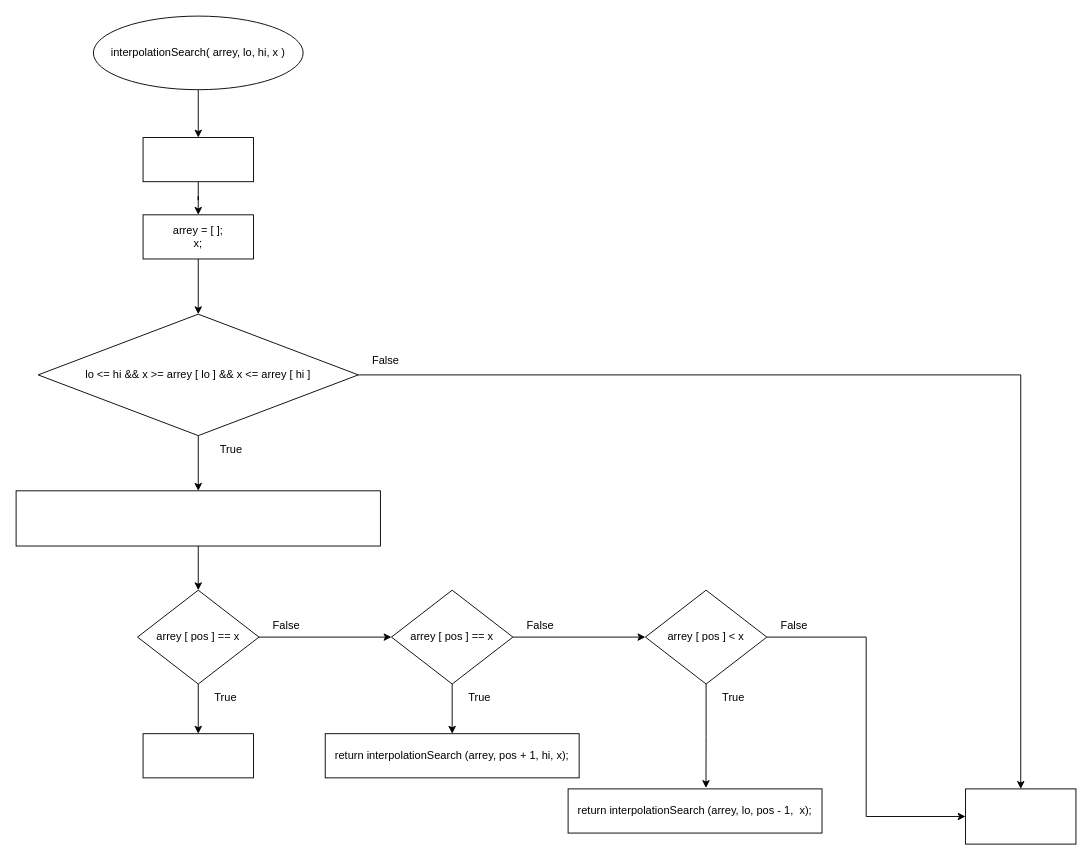
Some shapes in this 1092 by 860 pixel diagram are drawn without their labels. Here are the shapes that lost their labels. From the top down, the centre of each, then its label:
At [197,159]: "pos;".
At [197,518]: "pos = lo + (((hi - lo) / (arrey [ hi ] - arrey [ lo ])) * (x - arrey [ lo ]));".
At [197,755]: "return pos;".
At [1020,816]: "return -1;".
